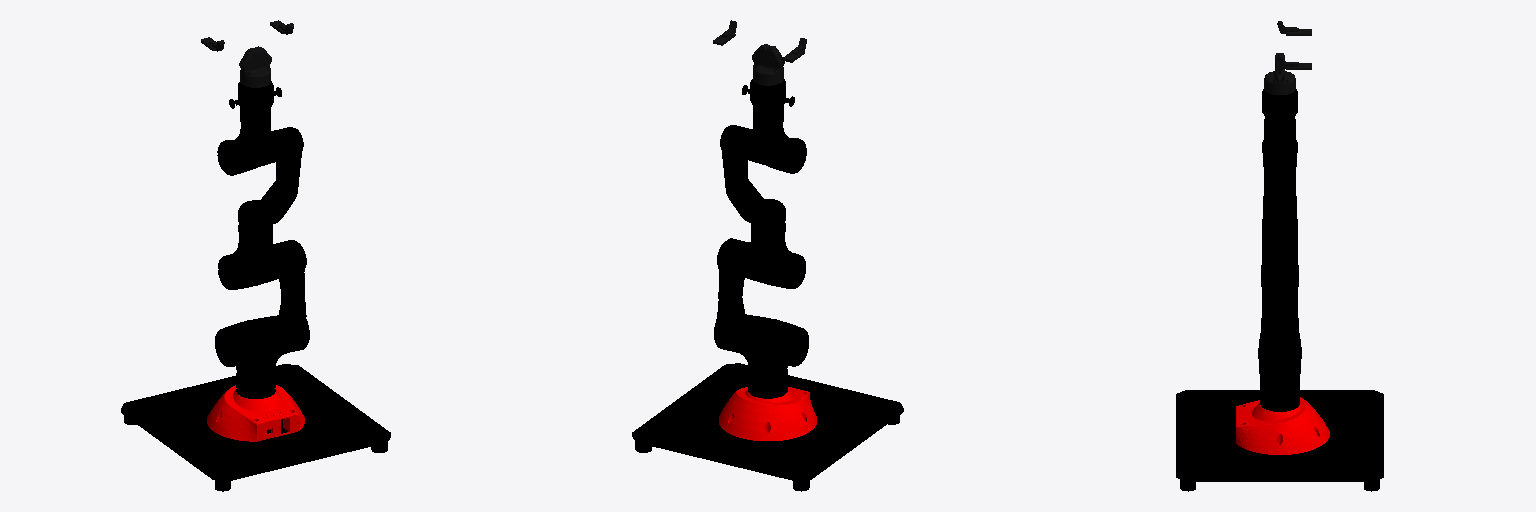
--- Render facts (derived) ---
Views: 3 orthographic renders of the robot side by side, from view 1: azimuth 30°, elevation 25°; view 2: azimuth 150°, elevation 25°; view 3: azimuth 270°, elevation 25°.
Model mara with 25 links and 24 joints (12 revolute, 12 fixed), rooted at world, posed every joint at zero.
Links seen in each view (by area): view 1: base_link, base_robot, motor1_link, motor4_link, motor3_link, motor2_link, motor1_cover, motor5_link, motor5_cover, motor3_cover, robotiq_arg2f_base_link, robotiq_adapter_link; view 2: base_link, base_robot, motor1_link, motor4_link, motor3_link, motor2_link, motor1_cover, motor5_link, motor5_cover, motor3_cover, robotiq_arg2f_base_link, robotiq_adapter_link; view 3: base_link, motor2_link, base_robot, motor4_link, motor3_link, motor5_link, motor1_link, robotiq_adapter_link, robotiq_arg2f_base_link.
Link boxes in pixels (x1,y1,x2,y2): base_link: (121, 364, 390, 491); base_robot: (207, 385, 304, 441); motor1_link: (236, 315, 293, 394); motor4_link: (238, 127, 303, 228); motor3_link: (233, 225, 288, 284); motor2_link: (279, 240, 309, 351); motor1_cover: (215, 314, 297, 398); motor5_link: (234, 110, 286, 166); motor5_cover: (217, 108, 290, 175); motor3_cover: (218, 221, 292, 289); robotiq_arg2f_base_link: (239, 46, 271, 87); robotiq_adapter_link: (229, 81, 281, 108); base_link: (632, 363, 903, 491); base_robot: (719, 387, 816, 440); motor1_link: (730, 314, 787, 394); motor4_link: (720, 125, 785, 226); motor3_link: (734, 223, 791, 283); motor2_link: (714, 238, 744, 350); motor1_cover: (726, 313, 808, 398); motor5_link: (737, 109, 789, 165); motor5_cover: (733, 106, 806, 173); motor3_cover: (730, 220, 805, 288); robotiq_arg2f_base_link: (752, 44, 784, 85); robotiq_adapter_link: (742, 79, 794, 106); base_link: (1176, 390, 1383, 491); motor2_link: (1260, 275, 1299, 391); base_robot: (1236, 397, 1329, 454); motor4_link: (1262, 159, 1297, 236); motor3_link: (1261, 235, 1298, 288); motor5_link: (1263, 119, 1296, 170); motor1_link: (1258, 340, 1301, 407); robotiq_adapter_link: (1262, 89, 1297, 121); robotiq_arg2f_base_link: (1264, 53, 1295, 94).
Size in the robot's own frame: 0.5 by 0.5 by 1.08 metres.
Meshes: 21 distinct files referenced, 21 mesh visuals loaded (21 Collada DAE).

robot.urdf — mara:
<?xml version="1.0" ?>
<!-- =================================================================================== -->
<!-- |    This document was autogenerated by xacro from ros2_mara_ws/src/mara/mara_description/urdf/mara_robot_gripper_140_no_table.urdf.xacro | -->
<!-- |    EDITING THIS FILE BY HAND IS NOT RECOMMENDED                                 | -->
<!-- =================================================================================== -->
<robot name="mara" xmlns:xacro="http://ros.org/wiki/xacro">
  <!--
  Author: Alejandro  Hernandez
-->
  <link name="base_link">
    <inertial>
      <origin rpy="0 0 0" xyz="8.625E-08 -4.6583E-06 0.03145"/>
      <mass value="7.033"/>
      <inertia ixx="0.1478344" ixy="-0.00001" ixz="0.0" iyy="0.14782335" iyz="0.0" izz="0.29471799"/>
    </inertial>
    <visual>
      <origin rpy="0 0 0" xyz="0 0 0"/>
      <geometry>
        <mesh filename="package://mara_description/meshes/Base_plancha.dae" scale="0.001 0.001 0.001"/>
      </geometry>
      <material name="Gazebo/Grey">
        <color rgba="0. 0. 0. 1"/>
      </material>
    </visual>
    <collision>
      <origin rpy="0 0 0" xyz="0 0 0"/>
      <geometry>
        <mesh filename="package://mara_description/meshes/Base_plancha.dae" scale="0.001 0.001 0.001"/>
      </geometry>
    </collision>
  </link>
  <gazebo reference="base_link">
    <material>Gazebo/Grey</material>
    <selfCollide>True</selfCollide>
  </gazebo>
  <link name="base_robot">
    <inertial>
      <origin rpy="0 0 0" xyz="8.625E-08 -4.6583E-06 0.03145"/>
      <mass value="7.033"/>
      <inertia ixx="0.1478344" ixy="0.00001" ixz="0.0" iyy="0.14782335" iyz="0.0" izz="0.29471799"/>
    </inertial>
    <visual>
      <origin rpy="0 0 0" xyz="0 0 0"/>
      <geometry>
        <mesh filename="package://mara_description/meshes/Base.dae" scale="0.001 0.001 0.001"/>
      </geometry>
      <material name="Gazebo/Black">
        <color rgba="1. 0. 0. 1.0"/>
      </material>
    </visual>
    <collision>
      <origin rpy="0 0 0" xyz="0 0 0"/>
      <geometry>
        <mesh filename="package://mara_description/meshes/Base.dae" scale="0.001 0.001 0.001"/>
      </geometry>
    </collision>
  </link>
  <gazebo reference="base_robot">
    <material>Gazebo/Black</material>
    <selfCollide>True</selfCollide>
  </gazebo>
  <link name="motor1_link">
    <inertial>
      <origin rpy="0 0 0" xyz="0.02066 0 0.12051"/>
      <mass value="5.6"/>
      <inertia ixx="0.0200769278" ixy="-7.72273E-006" ixz="-0.0050158708" iyy="0.0257088151" iyz="5.49229E-006" izz="0.0120821377"/>
    </inertial>
    <visual>
      <origin rpy="0 0 0" xyz="0 0 0"/>
      <geometry>
        <mesh filename="package://mara_description/meshes/MARA_T49.dae" scale="0.001 0.001 0.001"/>
      </geometry>
      <material name="Gazebo/White">
        <color rgba="0. 0. 0. 1"/>
      </material>
    </visual>
    <collision>
      <origin rpy="0 0 0" xyz="0 0 0"/>
      <geometry>
        <mesh filename="package://mara_description/meshes/MARA_T49.dae" scale="0.001 0.001 0.001"/>
      </geometry>
    </collision>
  </link>
  <gazebo reference="motor1_link">
    <material>Gazebo/White</material>
    <selfCollide>True</selfCollide>
  </gazebo>
  <link name="motor1_cover">
    <inertial>
      <origin rpy="0 0 0" xyz="0 0 0"/>
      <mass value="0.0"/>
      <inertia ixx="0.0" ixy="0.0" ixz="0.0" iyy="0.0" iyz="0.0" izz="0.0"/>
    </inertial>
    <visual>
      <origin rpy="0 0 0" xyz="0 0 0"/>
      <geometry>
        <mesh filename="package://mara_description/meshes/MARA_T49_Black.dae" scale="0.001 0.001 0.001"/>
      </geometry>
      <material name="Gazebo/Black">
        <color rgba="0. 0. 0. 1"/>
      </material>
    </visual>
    <collision>
      <origin rpy="0 0 0" xyz="0 0 0"/>
      <geometry>
        <mesh filename="package://mara_description/meshes/MARA_T49_Black.dae" scale="0.001 0.001 0.001"/>
      </geometry>
    </collision>
  </link>
  <gazebo reference="motor1_cover">
    <material>Gazebo/Black</material>
    <selfCollide>True</selfCollide>
  </gazebo>
  <link name="motor2_link">
    <inertial>
      <origin rpy="0 0 0" xyz="-0.01665 0.0 0.09639"/>
      <mass value="1.24"/>
      <inertia ixx="0.0079614839" ixy="0.000000037" ixz="0.0003203013" iyy="0.007135338" iyz="-0.000001062" izz="0.001111114"/>
    </inertial>
    <visual>
      <origin rpy="0 0 0" xyz="0 0 0"/>
      <geometry>
        <mesh filename="package://mara_description/meshes/MARA_Link1.dae" scale="0.001 0.001 0.001"/>
      </geometry>
      <material name="Gazebo/Black">
        <color rgba="0. 0. 0. 1"/>
      </material>
    </visual>
    <collision>
      <origin rpy="0 0 0" xyz="0 0 0"/>
      <geometry>
        <mesh filename="package://mara_description/meshes/MARA_Link1.dae" scale="0.001 0.001 0.001"/>
      </geometry>
    </collision>
  </link>
  <gazebo reference="motor2_link">
    <material>Gazebo/Black</material>
    <selfCollide>True</selfCollide>
  </gazebo>
  <link name="motor3_link">
    <inertial>
      <origin rpy="0 0 0" xyz="-0.08963 0 0.0403"/>
      <mass value="3.95"/>
      <inertia ixx="0.0115136615" ixy="-1.231046E-005" ixz="0.003148516" iyy="0.0149841676" iyz="-8.81378E-006" izz="0.0070387807"/>
    </inertial>
    <visual>
      <origin rpy="0 0 0" xyz="0 0 0"/>
      <geometry>
        <mesh filename="package://mara_description/meshes/MARA_T30.dae" scale="0.001 0.001 0.001"/>
      </geometry>
      <material name="Gazebo/White">
        <color rgba="0. 0. 0. 1"/>
      </material>
    </visual>
    <collision>
      <origin rpy="0 0 0" xyz="0 0 0"/>
      <geometry>
        <mesh filename="package://mara_description/meshes/MARA_T30.dae" scale="0.001 0.001 0.001"/>
      </geometry>
    </collision>
  </link>
  <gazebo reference="motor3_link">
    <material>Gazebo/White</material>
    <selfCollide>True</selfCollide>
  </gazebo>
  <link name="motor3_cover">
    <inertial>
      <origin rpy="0 0 0" xyz="0 0 0"/>
      <mass value="0.0"/>
      <inertia ixx="0.0" ixy="0.0" ixz="0.0" iyy="0.0" iyz="0.0" izz="0.0"/>
    </inertial>
    <visual>
      <origin rpy="0 0 0" xyz="0 0 0"/>
      <geometry>
        <mesh filename="package://mara_description/meshes/MARA_T30_Black.dae" scale="0.001 0.001 0.001"/>
      </geometry>
      <material name="Gazebo/Black">
        <color rgba="0. 0. 0. 1"/>
      </material>
    </visual>
    <collision>
      <origin rpy="0 0 0" xyz="0 0 0"/>
      <geometry>
        <mesh filename="package://mara_description/meshes/MARA_T30_Black.dae" scale="0.001 0.001 0.001"/>
      </geometry>
    </collision>
  </link>
  <gazebo reference="motor3_cover">
    <material>Gazebo/Black</material>
    <selfCollide>True</selfCollide>
  </gazebo>
  <link name="motor4_link">
    <inertial>
      <origin rpy="0 0 0" xyz="0.06357 0.0 0.05698"/>
      <mass value="1.26"/>
      <inertia ixx="0.005919676" ixy="0.000000923" ixz="-0.0022280208" iyy="0.0068807393" iyz="6.1373E-007" izz="0.00257485"/>
    </inertial>
    <visual>
      <origin rpy="0 0 0" xyz="0 0 0"/>
      <geometry>
        <mesh filename="package://mara_description/meshes/MARA_Link2.dae" scale="0.001 0.001 0.001"/>
      </geometry>
      <material name="Gazebo/Black">
        <color rgba="0. 0. 0. 1"/>
      </material>
    </visual>
    <collision>
      <origin rpy="0 0 0" xyz="0 0 0"/>
      <geometry>
        <mesh filename="package://mara_description/meshes/MARA_Link2.dae" scale="0.001 0.001 0.001"/>
      </geometry>
    </collision>
  </link>
  <gazebo reference="motor4_link">
    <material>Gazebo/Black</material>
    <selfCollide>True</selfCollide>
  </gazebo>
  <link name="motor5_link">
    <inertial>
      <origin rpy="0 0 0" xyz="-0.09105 0.0 0.03676"/>
      <mass value="2.85"/>
      <inertia ixx="0.0072829492" ixy="3.77994E-006" ixz="0.0015682105" iyy="0.0098263499" iyz="2.52745E-006" izz="0.0045615321"/>
    </inertial>
    <visual>
      <origin rpy="0 0 0" xyz="0 0 0"/>
      <geometry>
        <mesh filename="package://mara_description/meshes/MARA_T5.4.dae" scale="0.001 0.001 0.001"/>
      </geometry>
      <material name="Gazebo/White">
        <color rgba="0. 0. 0. 1"/>
      </material>
    </visual>
    <collision>
      <origin rpy="0 0 0" xyz="0 0 0"/>
      <geometry>
        <mesh filename="package://mara_description/meshes/MARA_T5.4.dae" scale="0.001 0.001 0.001"/>
      </geometry>
    </collision>
  </link>
  <gazebo reference="motor5_link">
    <material>Gazebo/White</material>
    <selfCollide>True</selfCollide>
  </gazebo>
  <link name="motor5_cover">
    <inertial>
      <origin rpy="0 0 0" xyz="0 0 0"/>
      <mass value="0.0"/>
      <inertia ixx="0.0" ixy="0.0" ixz="0.0" iyy="0.0" iyz="0.0" izz="0.0"/>
    </inertial>
    <visual>
      <origin rpy="0 0 0" xyz="0 0 0"/>
      <geometry>
        <mesh filename="package://mara_description/meshes/MARA_T5.4_black.dae" scale="0.001 0.001 0.001"/>
      </geometry>
      <material name="Gazebo/Black">
        <color rgba="0. 0. 0. 1"/>
      </material>
    </visual>
    <collision>
      <origin rpy="0 0 0" xyz="0 0 0"/>
      <geometry>
        <mesh filename="package://mara_description/meshes/MARA_T5.4_black.dae" scale="0.001 0.001 0.001"/>
      </geometry>
    </collision>
  </link>
  <gazebo reference="motor5_cover">
    <material>Gazebo/Black</material>
    <selfCollide>True</selfCollide>
  </gazebo>
  <!-- dummy link with the required tags-->
  <link name="motor6_link">
    <inertial>
      <origin rpy="0 0 0" xyz="0 0 0"/>
      <mass value="0.00001"/>
      <inertia ixx="0" ixy="0" ixz="0" iyy="0" iyz="0" izz="0"/>
    </inertial>
    <visual>
      <origin rpy="0 0 0" xyz="0 0 0"/>
      <geometry>
        <sphere radius="0"/>
      </geometry>
    </visual>
    <collision>
      <origin rpy="0 0 0" xyz="0 0 0"/>
      <geometry>
        <sphere radius="0"/>
      </geometry>
    </collision>
  </link>
  <link name="ee_link"/>
  <joint name="joint_bases" type="fixed">
    <origin rpy="0 0 0" xyz="0 0 0.04"/>
    <parent link="base_link"/>
    <child link="base_robot"/>
  </joint>
  <joint name="motor1" type="revolute">
    <origin rpy="0 0 0" xyz="0 0 0.05122"/>
    <parent link="base_robot"/>
    <child link="motor1_link"/>
    <axis xyz="0 0 1"/>
    <limit effort="104.0" lower="-3.1416" upper="3.1416" velocity="1.57"/>
    <dynamics damping="0" friction="0"/>
  </joint>
  <joint name="motor1_cover_joint" type="fixed">
    <origin rpy="0 0 0" xyz="0 0 0.0"/>
    <parent link="motor1_link"/>
    <child link="motor1_cover"/>
  </joint>
  <joint name="motor2" type="revolute">
    <origin rpy="0 0 0" xyz="0.118 0 0.1637"/>
    <parent link="motor1_link"/>
    <child link="motor2_link"/>
    <axis xyz="1 0 0"/>
    <limit effort="104.0" lower="-2.35" upper="2.35" velocity="1.57"/>
    <dynamics damping="0" friction="0"/>
  </joint>
  <joint name="motor3" type="revolute">
    <origin rpy="0 0 0" xyz="-0.009 0 0.2"/>
    <parent link="motor2_link"/>
    <child link="motor3_link"/>
    <axis xyz="-1 0 0"/>
    <limit effort="69" lower="-2.61" upper="2.61" velocity="1.57"/>
    <dynamics damping="0" friction="0"/>
  </joint>
  <joint name="motor3_cover_joint" type="fixed">
    <origin rpy="0 0 0" xyz="0 0 0.0"/>
    <parent link="motor3_link"/>
    <child link="motor3_cover"/>
  </joint>
  <joint name="motor4" type="revolute">
    <origin rpy="0 0 0" xyz="-0.109255 0 0.149255"/>
    <parent link="motor3_link"/>
    <child link="motor4_link"/>
    <axis xyz="0 0 1"/>
    <limit effort="69" lower="-3.14" upper="3.14" velocity="1.57"/>
    <dynamics damping="0" friction="0"/>
  </joint>
  <joint name="motor5" type="revolute">
    <origin rpy="0 0 0" xyz="0.1054570 0 0.16074"/>
    <parent link="motor4_link"/>
    <child link="motor5_link"/>
    <axis xyz="-1 0 0"/>
    <limit effort="34" lower="-2.56" upper="2.56" velocity="1.57"/>
    <dynamics damping="0" friction="0"/>
  </joint>
  <joint name="motor5_cover_joint" type="fixed">
    <origin rpy="0 0 0" xyz="0 0 0.0"/>
    <parent link="motor5_link"/>
    <child link="motor5_cover"/>
  </joint>
  <joint name="motor6" type="revolute">
    <origin rpy="0 0 0" xyz="-0.10625569 0 0.14675569"/>
    <parent link="motor5_link"/>
    <child link="motor6_link"/>
    <axis xyz="0 0 1"/>
    <limit effort="34" lower="-3.14" upper="3.14" velocity="1.57"/>
    <dynamics damping="0" friction="0"/>
  </joint>
  <joint name="ee_link" type="fixed">
    <origin rpy="0 -1.57 0" xyz="0 0.0 0.24497"/>
    <parent link="motor6_link"/>
    <child link="ee_link"/>
  </joint>
  <link name="tool0"/>
  <joint name="motor6_link-tool0_fixed_joint" type="fixed">
    <origin rpy="0 -1.57 0" xyz="0 0.0 0.24497"/>
    <parent link="motor6_link"/>
    <child link="tool0"/>
  </joint>
  <transmission name="shoulder_pan_trans">
    <type>transmission_interface/SimpleTransmission</type>
    <joint name="motor1">
      <hardwareInterface>hardware_interface/PositionJointInterface</hardwareInterface>
    </joint>
    <actuator name="shoulder_pan_motor">
      <mechanicalReduction>1</mechanicalReduction>
    </actuator>
  </transmission>
  <transmission name="shoulder_lift_trans">
    <type>transmission_interface/SimpleTransmission</type>
    <joint name="motor2">
      <hardwareInterface>hardware_interface/PositionJointInterface</hardwareInterface>
    </joint>
    <actuator name="shoulder_lift_motor">
      <mechanicalReduction>1</mechanicalReduction>
    </actuator>
  </transmission>
  <transmission name="elbow_trans">
    <type>transmission_interface/SimpleTransmission</type>
    <joint name="motor3">
      <hardwareInterface>hardware_interface/PositionJointInterface</hardwareInterface>
    </joint>
    <actuator name="elbow_motor">
      <mechanicalReduction>1</mechanicalReduction>
    </actuator>
  </transmission>
  <transmission name="wrist_1_trans">
    <type>transmission_interface/SimpleTransmission</type>
    <joint name="motor4">
      <hardwareInterface>hardware_interface/PositionJointInterface</hardwareInterface>
    </joint>
    <actuator name="wrist_1_motor">
      <mechanicalReduction>1</mechanicalReduction>
    </actuator>
  </transmission>
  <transmission name="wrist_2_trans">
    <type>transmission_interface/SimpleTransmission</type>
    <joint name="motor5">
      <hardwareInterface>hardware_interface/PositionJointInterface</hardwareInterface>
    </joint>
    <actuator name="wrist_2_motor">
      <mechanicalReduction>1</mechanicalReduction>
    </actuator>
  </transmission>
  <transmission name="wrist_3_trans">
    <type>transmission_interface/SimpleTransmission</type>
    <joint name="motor6">
      <hardwareInterface>hardware_interface/PositionJointInterface</hardwareInterface>
    </joint>
    <actuator name="wrist_3_motor">
      <mechanicalReduction>1</mechanicalReduction>
    </actuator>
  </transmission>
  <gazebo>
    <plugin filename="libgazebo_ros_joint_state_publisher.so" name="mara_joint_state">
      <ros>
        <argument>~/out:=joint_states</argument>
      </ros>
      <update_rate>25</update_rate>
      <joint_name>motor1</joint_name>
      <joint_name>motor2</joint_name>
      <joint_name>motor3</joint_name>
      <joint_name>motor4</joint_name>
      <joint_name>motor5</joint_name>
      <joint_name>motor6</joint_name>
      <joint_name>joint_finger</joint_name>
    </plugin>
    <plugin filename="libmara_gazebo_joint_plugin.so" name="hrim_actuation_servomotor_000000000001">
      <ros/>
      <axis1>motor2</axis1>
      <axis2>motor1</axis2>
      <type>series14</type>
    </plugin>
    <plugin filename="libmara_gazebo_joint_plugin.so" name="hrim_actuation_servomotor_000000000002">
      <ros/>
      <axis1>motor3</axis1>
      <axis2>motor4</axis2>
      <type>series17</type>
    </plugin>
    <plugin filename="libmara_gazebo_joint_plugin.so" name="hrim_actuation_servomotor_000000000003">
      <ros/>
      <axis1>motor5</axis1>
      <axis2>motor6</axis2>
      <type>series20</type>
    </plugin>
  </gazebo>
  <link name="robotiq_arg2f_base_link">
    <inertial>
      <origin rpy="0 0 0" xyz="-0.00013 0.00011 0.03284"/>
      <mass value="0.52954"/>
      <inertia ixx="573495E-9" ixy="-554E-9" ixz="2628E-9" iyy="681780E-9" iyz="607E-9" izz="483281E-9"/>
    </inertial>
    <visual>
      <origin rpy="0 0 0" xyz="0 0 0"/>
      <geometry>
        <mesh filename="package://robotiq_140_gripper_description/meshes/GRIPPER_base_axis.dae" scale="0.001 0.001 0.001"/>
      </geometry>
      <material name="Gazebo/Black">
        <color rgba="0.1 0.1 0.1 1"/>
      </material>
    </visual>
    <collision>
      <origin rpy="0 0 0" xyz="0 0 0"/>
      <geometry>
        <mesh filename="package://robotiq_140_gripper_description/meshes/GRIPPER_base_axis.dae" scale="0.001 0.001 0.001"/>
      </geometry>
    </collision>
  </link>
  <gazebo reference="robotiq_arg2f_base_link">
    <material>Gazebo/Black</material>
    <selfCollide>True</selfCollide>
  </gazebo>
  <link name="left_outer_knuckle">
    <inertial>
      <origin rpy="0 0 0" xyz="0.01616 0 -0.00133"/>
      <mass value="0.0131"/>
      <inertia ixx="325.5E-9" ixy="0" ixz="197.94E-9" iyy="2306.36E-9" iyz="0" izz="2176E-9"/>
    </inertial>
    <visual>
      <origin rpy="0 0 0" xyz="0 0 0"/>
      <geometry>
        <mesh filename="package://robotiq_140_gripper_description/meshes/robotiq_140_left_outer_knuckle.dae" scale="0.001 0.001 0.001"/>
      </geometry>
      <material name="">
        <color rgba="0.792156862745098 0.819607843137255 0.933333333333333 1"/>
      </material>
    </visual>
    <collision>
      <origin rpy="0 0 0" xyz="0 0 0"/>
      <geometry>
        <mesh filename="package://robotiq_140_gripper_description/meshes/robotiq_140_left_outer_knuckle.dae" scale="0.001 0.001 0.001"/>
      </geometry>
    </collision>
  </link>
  <gazebo reference="left_outer_knuckle">
    <material>Gazebo/Grey</material>
    <selfCollide>True</selfCollide>
  </gazebo>
  <link name="right_outer_knuckle">
    <inertial>
      <origin rpy="0 0 0" xyz="-0.01616 0 -0.00133"/>
      <mass value="0.0131"/>
      <inertia ixx="325.5E-9" ixy="0" ixz="-197.94E-9" iyy="2306.36E-9" iyz="0" izz="2176E-9"/>
    </inertial>
    <visual>
      <origin rpy="0 0 0" xyz="0 0 0"/>
      <geometry>
        <mesh filename="package://robotiq_140_gripper_description/meshes/robotiq_140_right_outer_knuckle.dae" scale="0.001 0.001 0.001"/>
      </geometry>
      <material name="">
        <color rgba="0.792156862745098 0.819607843137255 0.933333333333333 1"/>
      </material>
    </visual>
    <collision>
      <origin rpy="0 0 0" xyz="0 0 0"/>
      <geometry>
        <mesh filename="package://robotiq_140_gripper_description/meshes/robotiq_140_right_outer_knuckle.dae" scale="0.001 0.001 0.001"/>
      </geometry>
    </collision>
  </link>
  <gazebo reference="right_outer_knuckle">
    <material>Gazebo/Grey</material>
    <selfCollide>True</selfCollide>
  </gazebo>
  <link name="left_inner_knuckle">
    <inertial>
      <origin rpy="0 0 0" xyz="0.03332 0 0.0379"/>
      <mass value="0.04476"/>
      <inertia ixx="28054E-9" ixy="0" ixz="-19174E-9" iyy="39758E-9" iyz="0" izz="23453E-9"/>
    </inertial>
    <visual>
      <origin rpy="0 0 0" xyz="0 0 0"/>
      <geometry>
        <mesh filename="package://robotiq_140_gripper_description/meshes/robotiq_140_left_inner_knuckle.dae" scale="0.001 0.001 0.001"/>
      </geometry>
      <material name="Gazebo/Black">
        <color rgba="0.1 0.1 0.1 1"/>
      </material>
    </visual>
    <collision>
      <origin rpy="0 0 0" xyz="0 0 0"/>
      <geometry>
        <mesh filename="package://robotiq_140_gripper_description/meshes/robotiq_140_left_inner_knuckle.dae" scale="0.001 0.001 0.001"/>
      </geometry>
    </collision>
  </link>
  <gazebo reference="left_inner_knuckle">
    <material>Gazebo/Black</material>
    <selfCollide>False</selfCollide>
  </gazebo>
  <link name="right_inner_knuckle">
    <inertial>
      <origin rpy="0 0 0" xyz="-0.03332 0 0.0379"/>
      <mass value="0.04476"/>
      <inertia ixx="28054E-9" ixy="0" ixz="19174E-9" iyy="39758E-9" iyz="0" izz="23453E-9"/>
    </inertial>
    <visual>
      <origin rpy="0 0 0" xyz="0 0 0"/>
      <geometry>
        <mesh filename="package://robotiq_140_gripper_description/meshes/robotiq_140_right_inner_knuckle.dae" scale="0.001 0.001 0.001"/>
      </geometry>
      <material name="Gazebo/Black">
        <color rgba="0.1 0.1 0.1 1"/>
      </material>
    </visual>
    <collision>
      <origin rpy="0 0 0" xyz="0 0 0"/>
      <geometry>
        <mesh filename="package://robotiq_140_gripper_description/meshes/robotiq_140_right_inner_knuckle.dae" scale="0.001 0.001 0.001"/>
      </geometry>
    </collision>
  </link>
  <gazebo reference="right_inner_knuckle">
    <material>Gazebo/Black</material>
    <selfCollide>False</selfCollide>
  </gazebo>
  <link name="left_inner_finger">
    <inertial>
      <origin rpy="0 0 0" xyz="-0.01563 0 0.02522"/>
      <mass value="0.045"/>
      <inertia ixx="26663E-9" ixy="0" ixz="5579E-9" iyy="28009E-9" iyz="0" izz="4368E-9"/>
    </inertial>
    <visual>
      <origin rpy="0 0 0" xyz="0 0 0"/>
      <geometry>
        <mesh filename="package://robotiq_140_gripper_description/meshes/robotiq_140_left_inner_finger.dae" scale="0.001 0.001 0.001"/>
      </geometry>
      <material name="Gazebo/Black">
        <color rgba="0.1 0.1 0.1 1"/>
      </material>
    </visual>
    <collision>
      <origin rpy="0 0 0" xyz="0 0 0"/>
      <geometry>
        <mesh filename="package://robotiq_140_gripper_description/meshes/robotiq_140_left_inner_finger.dae" scale="0.001 0.001 0.001"/>
      </geometry>
    </collision>
  </link>
  <gazebo reference="left_inner_finger">
    <material>Gazebo/Black</material>
    <selfCollide>False</selfCollide>
  </gazebo>
  <link name="right_inner_finger">
    <inertial>
      <origin rpy="0 0 0" xyz="0.01563 0 0.02522"/>
      <mass value="0.045"/>
      <inertia ixx="26663E-9" ixy="0" ixz="-5579E-9" iyy="28009E-9" iyz="0" izz="4368E-9"/>
    </inertial>
    <visual>
      <origin rpy="0 0 0" xyz="0 0 0"/>
      <geometry>
        <mesh filename="package://robotiq_140_gripper_description/meshes/robotiq_140_right_inner_finger.dae" scale="0.001 0.001 0.001"/>
      </geometry>
      <material name="Gazebo/Black">
        <color rgba="0.1 0.1 0.1 1"/>
      </material>
    </visual>
    <collision>
      <origin rpy="0 0 0" xyz="0 0 0"/>
      <geometry>
        <mesh filename="package://robotiq_140_gripper_description/meshes/robotiq_140_right_inner_finger.dae" scale="0.001 0.001 0.001"/>
      </geometry>
    </collision>
  </link>
  <gazebo reference="right_inner_finger">
    <material>Gazebo/Black</material>
    <selfCollide>False</selfCollide>
  </gazebo>
  <link name="left_outer_finger">
    <inertial>
      <origin rpy="0 0 0" xyz="0.01482 0 0.03451"/>
      <mass value="0.07637"/>
      <inertia ixx="45513E-9" ixy="0" ixz="-20691E-9" iyy="52570E-9" iyz="0" izz="17804E-9"/>
    </inertial>
    <visual>
      <origin rpy="0 0 0" xyz="0 0 0"/>
      <geometry>
        <mesh filename="package://robotiq_140_gripper_description/meshes/robotiq_140_left_outer_finger.dae" scale="0.001 0.001 0.001"/>
      </geometry>
      <material name="Gazebo/Black">
        <color rgba="0.1 0.1 0.1 1"/>
      </material>
    </visual>
    <collision>
      <origin rpy="0 0 0" xyz="0 0 0"/>
      <geometry>
        <mesh filename="package://robotiq_140_gripper_description/meshes/robotiq_140_left_outer_finger.dae" scale="0.001 0.001 0.001"/>
      </geometry>
    </collision>
  </link>
  <gazebo reference="left_outer_finger">
    <material>Gazebo/Black</material>
    <selfCollide>True</selfCollide>
  </gazebo>
  <link name="right_outer_finger">
    <inertial>
      <origin rpy="0 0 0" xyz="-0.01482 0 0.03451"/>
      <mass value="0.07637"/>
      <inertia ixx="45513E-9" ixy="0" ixz="20691E-9" iyy="52570E-9" iyz="0" izz="17804E-9"/>
    </inertial>
    <visual>
      <origin rpy="0 0 0" xyz="0 0 0"/>
      <geometry>
        <mesh filename="package://robotiq_140_gripper_description/meshes/robotiq_140_right_outer_finger.dae" scale="0.001 0.001 0.001"/>
      </geometry>
      <material name="Gazebo/Black">
        <color rgba="0.1 0.1 0.1 1"/>
      </material>
    </visual>
    <collision>
      <origin rpy="0 0 0" xyz="0 0 0"/>
      <geometry>
        <mesh filename="package://robotiq_140_gripper_description/meshes/robotiq_140_right_outer_finger.dae" scale="0.001 0.001 0.001"/>
      </geometry>
    </collision>
  </link>
  <gazebo reference="right_outer_finger">
    <material>Gazebo/Black</material>
    <selfCollide>True</selfCollide>
  </gazebo>
  <joint name="robotiq_arg2f_base_to_left_outer_knuckle" type="revolute">
    <origin rpy="0 0 0" xyz="0.0306 0 0.05466"/>
    <parent link="robotiq_arg2f_base_link"/>
    <child link="left_outer_knuckle"/>
    <axis xyz="0 -1 0"/>
    <limit effort="18.65" lower="0" upper="0.78574722925" velocity="2.0"/>
    <mimic joint="joint_finger" multiplier="1" offset="0"/>
  </joint>
  <joint name="joint_finger" type="revolute">
    <origin rpy="0 0 0" xyz="-0.0306 0 0.05466"/>
    <parent link="robotiq_arg2f_base_link"/>
    <child link="right_outer_knuckle"/>
    <axis xyz="0 1 0"/>
    <limit effort="18.65" lower="0" upper="0.78574722925" velocity="3.54"/>
  </joint>
  <joint name="robotiq_arg2f_base_to_left_inner_knuckle" type="revolute">
    <origin rpy="0 0 0" xyz="0.0127 0 0.06118"/>
    <parent link="robotiq_arg2f_base_link"/>
    <child link="left_inner_knuckle"/>
    <axis xyz="0 -1 0"/>
    <limit effort="18.65" lower="0" upper="0.78574722925" velocity="3.54"/>
    <mimic joint="joint_finger" multiplier="1" offset="0"/>
  </joint>
  <joint name="robotiq_arg2f_base_to_right_inner_knuckle" type="revolute">
    <origin rpy="0 0 0" xyz="-0.0127 0 0.06118"/>
    <parent link="robotiq_arg2f_base_link"/>
    <child link="right_inner_knuckle"/>
    <axis xyz="0 1 0"/>
    <limit effort="18.65" lower="0" upper="0.78574722925" velocity="3.54"/>
    <mimic joint="joint_finger" multiplier="1" offset="0"/>
  </joint>
  <joint name="left_outer_knuckle_to_finger" type="fixed">
    <origin rpy="0 0 0" xyz="0.03142 0 -0.00453"/>
    <parent link="left_outer_knuckle"/>
    <child link="left_outer_finger"/>
  </joint>
  <joint name="right_outer_knuckle_to_finger" type="fixed">
    <origin rpy="0 0 0" xyz="-0.03142 0 -0.00453"/>
    <parent link="right_outer_knuckle"/>
    <child link="right_outer_finger"/>
  </joint>
  <joint name="left_outer_finger_to_inner" type="revolute">
    <origin rpy="0 0 0" xyz="0.03543 0 0.0789"/>
    <parent link="left_outer_finger"/>
    <child link="left_inner_finger"/>
    <axis xyz="0 1 0"/>
    <limit effort="18.65" lower="0" upper="0.78574722925" velocity="3.54"/>
    <mimic joint="joint_finger" multiplier="1" offset="0"/>
  </joint>
  <joint name="right_outer_finger_to_inner" type="revolute">
    <origin rpy="0 0 0" xyz="-0.03543 0 0.0789"/>
    <parent link="right_outer_finger"/>
    <child link="right_inner_finger"/>
    <axis xyz="0 -1 0"/>
    <limit effort="18.65" lower="0" upper="0.78574722925" velocity="3.54"/>
    <mimic joint="joint_finger" multiplier="1" offset="0"/>
  </joint>
  <gazebo>
    <joint name="left_inner_knuckle_to_finger" type="revolute">
      <pose frame="">-0.0179 0 0.00652 0 0 0</pose>
      <parent>left_inner_knuckle</parent>
      <child>left_inner_finger</child>
      <axis>
        <xyz>0 1 0</xyz>
        <limit>
          <lower>0</lower>
          <upper>0.78574722925</upper>
          <velocity>3.54</velocity>
          <effort>18.65</effort>
        </limit>
      </axis>
    </joint>
    <joint name="right_inner_knuckle_to_finger" type="revolute">
      <pose frame="">0.0179 0 0.00652 0 0 0</pose>
      <parent>right_inner_knuckle</parent>
      <child>right_inner_finger</child>
      <axis>
        <xyz>0 -1 0</xyz>
        <limit>
          <lower>0</lower>
          <upper>0.78574722925</upper>
          <velocity>3.54</velocity>
          <effort>18.65</effort>
        </limit>
      </axis>
    </joint>
    <plugin filename="librobotiq_gripper_gazebo_plugin.so" name="hrim_actuator_gripper_000000000004">
      <kp>600</kp>
      <ki>0.1</ki>
      <kd>0.01</kd>
      <joint>robotiq_arg2f_base_to_left_inner_knuckle</joint>
      <joint>robotiq_arg2f_base_to_left_outer_knuckle</joint>
      <joint>robotiq_arg2f_base_to_right_inner_knuckle</joint>
      <joint>joint_finger</joint>
    </plugin>
  </gazebo>
  <link name="world"/>
  <link name="gripper_adapter">
    <inertial>
      <origin rpy="0 0 0" xyz="0 0 0.0173"/>
      <mass value="0.14"/>
      <inertia ixx="0.0001" ixy="0" ixz="0" iyy="0.0001" iyz="0" izz="0.0002"/>
    </inertial>
    <visual>
      <origin rpy="0 0 0" xyz="0 0 0"/>
      <geometry>
        <mesh filename="package://mara_description/meshes/gripper_adapter.dae" scale="0.001 0.001 0.001"/>
      </geometry>
      <material name="Gazebo/Wood">
        <color rgba="0. 0. 0. 1"/>
      </material>
    </visual>
    <collision>
      <origin rpy="0 0 0" xyz="0 0 0"/>
      <geometry>
        <mesh filename="package://mara_description/meshes/gripper_adapter.dae" scale="0.001 0.001 0.001"/>
      </geometry>
    </collision>
  </link>
  <gazebo reference="gripper_adapter">
    <material>Gazebo/Black</material>
    <selfCollide>True</selfCollide>
  </gazebo>
  <link name="robotiq_adapter_link">
    <inertial>
      <origin rpy="0 0 0" xyz="0 0 -0.0253"/>
      <mass value="0.317"/>
      <inertia ixx="298526E-9" ixy="3928E-9" ixz="-926E-9" iyy="354661E-9" iyz="42E-9" izz="415572E-9"/>
    </inertial>
    <visual>
      <origin rpy="0 0 0" xyz="0 0 0"/>
      <geometry>
        <mesh filename="package://mara_description/meshes/robotiq_adapter.dae" scale="0.001 0.001 0.001"/>
      </geometry>
      <material name="Gazebo/Black">
        <color rgba="0.0 0.0 0.0 1"/>
      </material>
    </visual>
    <collision>
      <origin rpy="0 0 0" xyz="0 0 0"/>
      <geometry>
        <mesh filename="package://mara_description/meshes/robotiq_adapter.dae" scale="0.001 0.001 0.001"/>
      </geometry>
    </collision>
  </link>
  <gazebo reference="robotiq_adapter_link">
    <material>Gazebo/Black</material>
    <selfCollide>True</selfCollide>
  </gazebo>
  <joint name="world_to_table" type="fixed">
    <origin rpy="0 0 0" xyz="0 0 0"/>
    <parent link="world"/>
    <child link="base_link"/>
  </joint>
  <joint name="motor6_to_gripper_adapter" type="fixed">
    <origin rpy="0 0 0" xyz=" 0 0 -0.02026"/>
    <parent link="motor6_link"/>
    <child link="gripper_adapter"/>
  </joint>
  <joint name="gripper_adapter_to_robotiq_adapter" type="fixed">
    <origin rpy="0 0 0" xyz=" 0 0 0.05679"/>
    <parent link="gripper_adapter"/>
    <child link="robotiq_adapter_link"/>
  </joint>
  <joint name="robotiq_adapter_to_arg2f_base" type="fixed">
    <origin rpy="0 0 0" xyz=" 0 0 0"/>
    <parent link="robotiq_adapter_link"/>
    <child link="robotiq_arg2f_base_link"/>
  </joint>
</robot>
